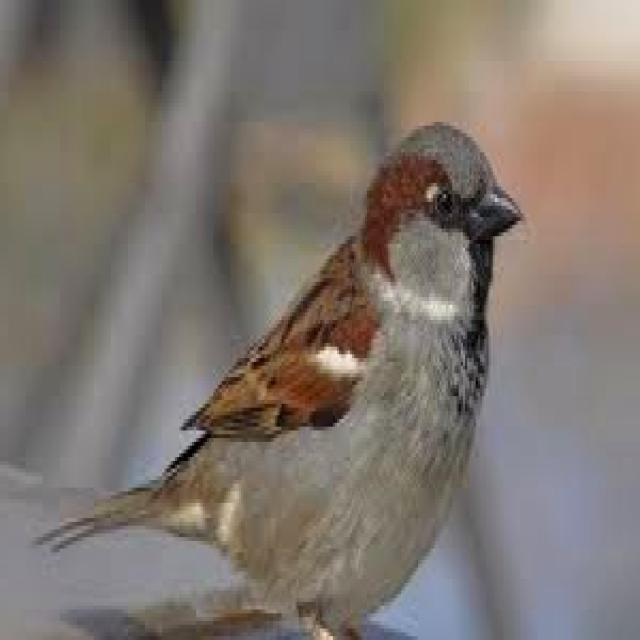sparrow: (41, 122, 523, 636)
